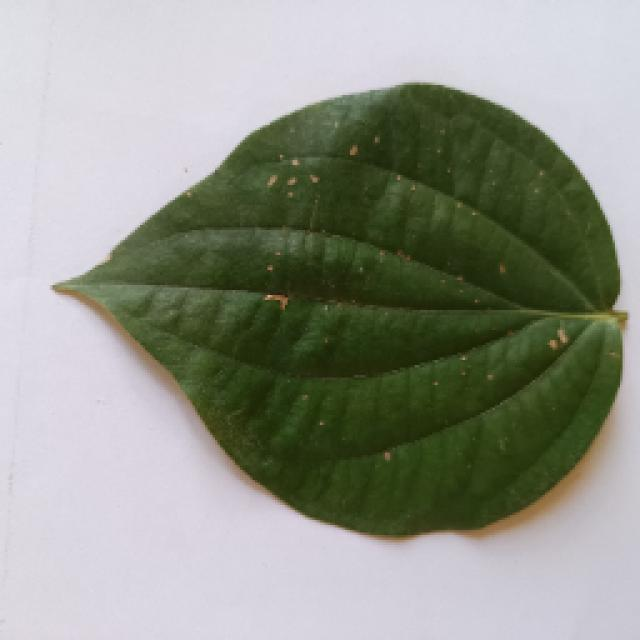pollu-disease: (32, 85, 620, 547)
